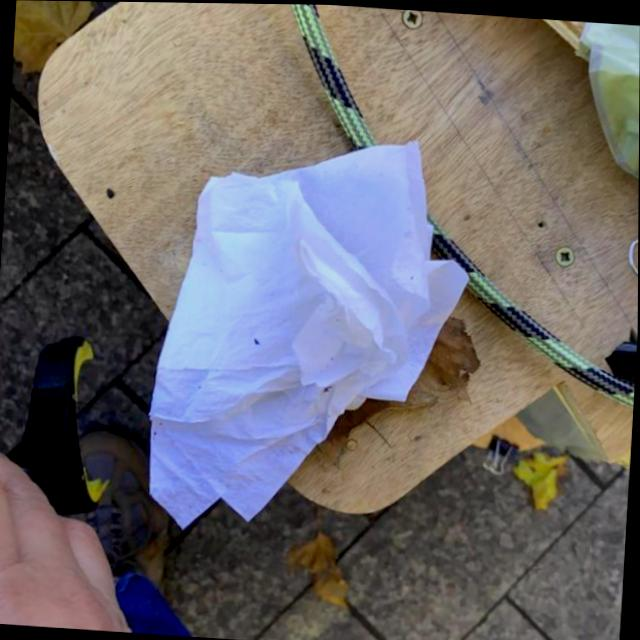Paper: (141, 120, 482, 548)
